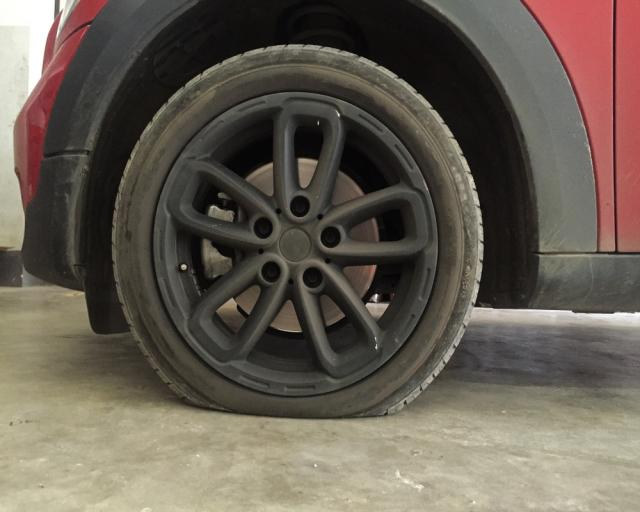tire flat: (112, 46, 485, 419)
